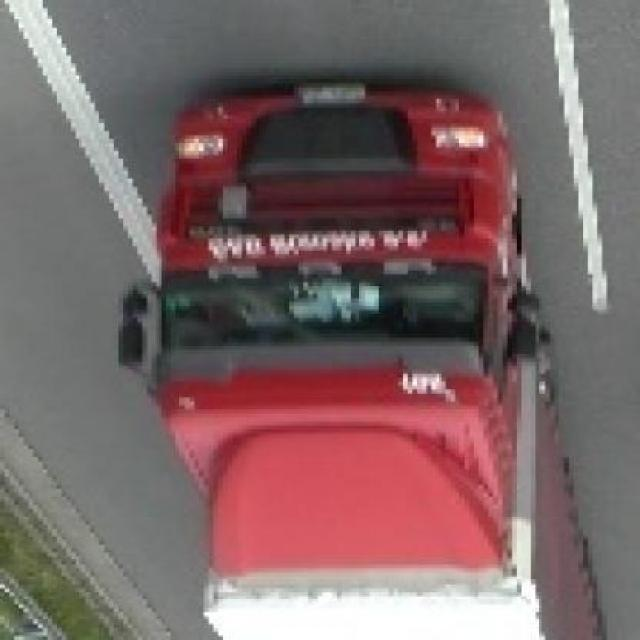truck: (124, 84, 609, 640)
